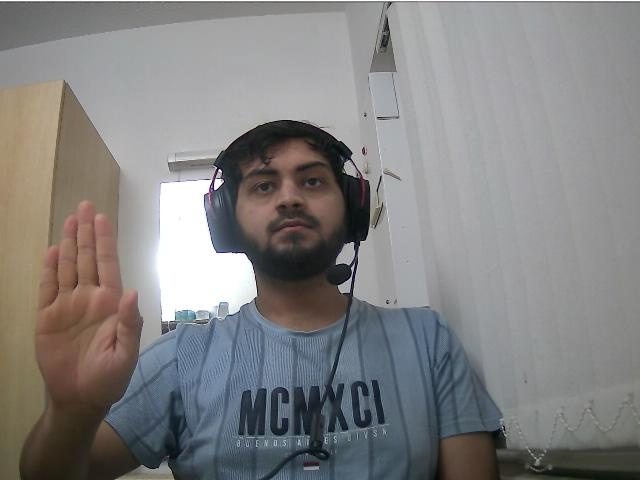up: (32, 200, 140, 405)
